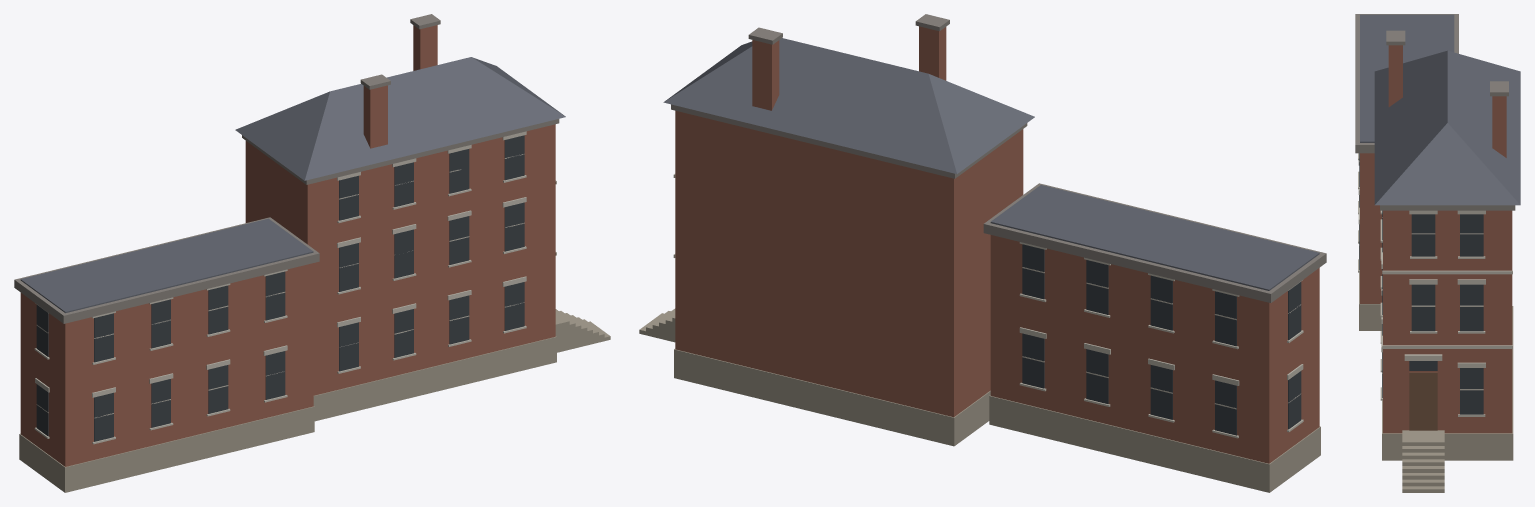
Rendered from house_2011_indiana__draft_1904.glb.
The picture shows the model from 3 angles, left to right: view 1: azimuth 30°, elevation 25°; view 2: azimuth 150°, elevation 25°; view 3: azimuth 270°, elevation 25°; orthographic projection. The views are drawn at different scales.
Visible parts, largest first — view 1: house_2011_indiana__draft_1904; view 2: house_2011_indiana__draft_1904; view 3: house_2011_indiana__draft_1904.
Boxes of the visible parts, x1,y1,x2,y2 form: house_2011_indiana__draft_1904: (14, 14, 610, 492); house_2011_indiana__draft_1904: (639, 14, 1326, 492); house_2011_indiana__draft_1904: (1355, 14, 1520, 492).
Size of the model in its own units: 29.25 by 15.7 by 7.02.
